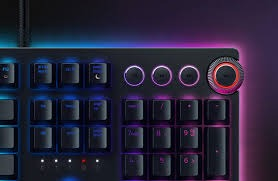keyboard: (0, 45, 241, 181)
